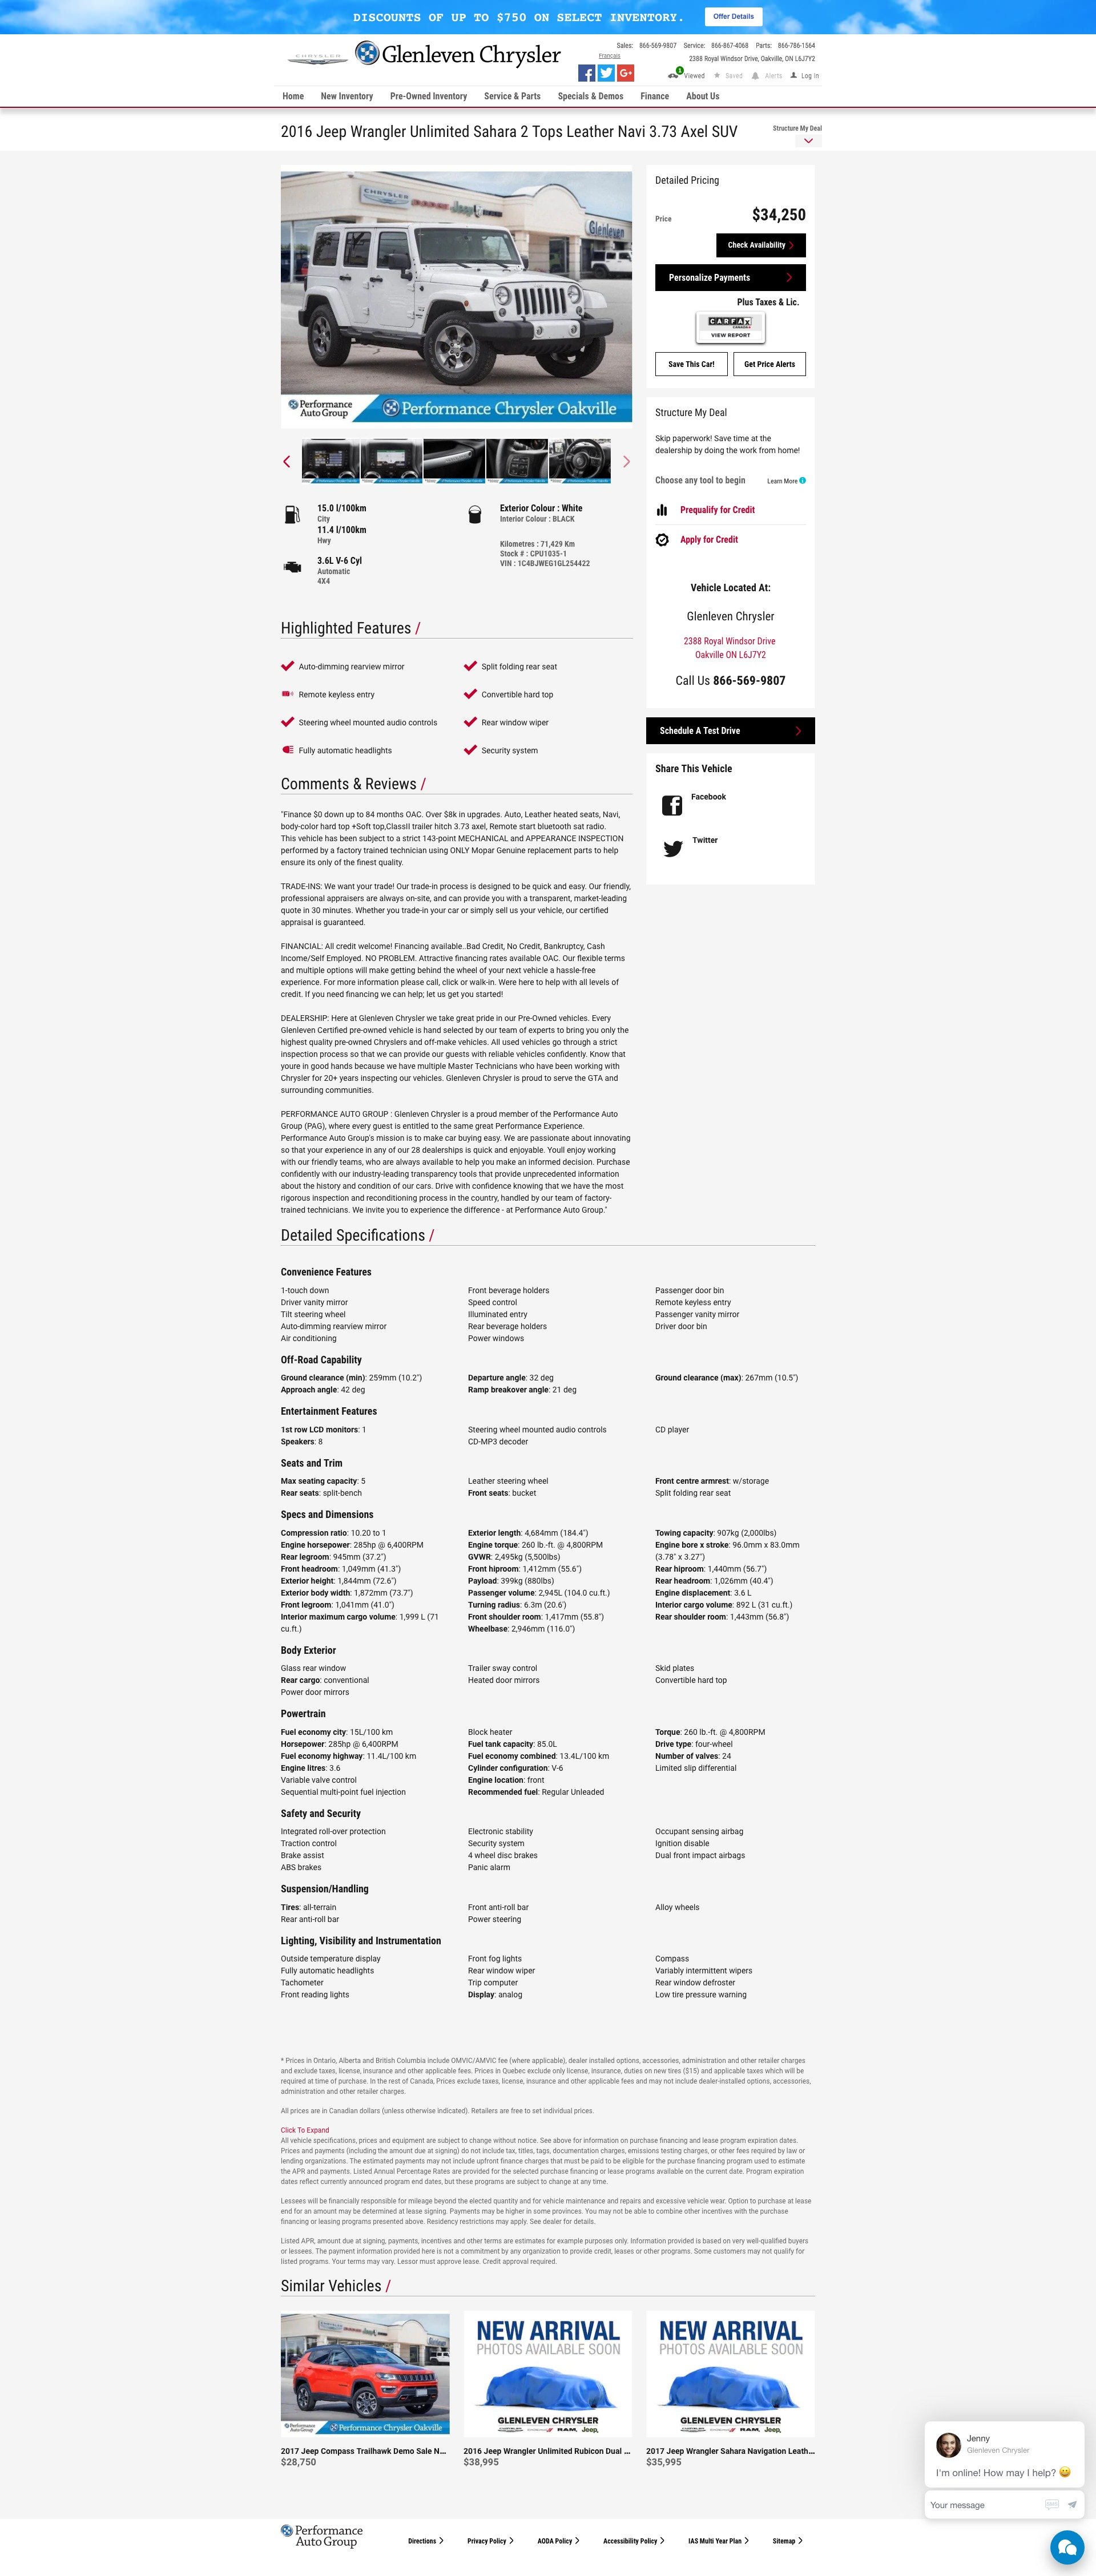car: (623, 457, 631, 468)
